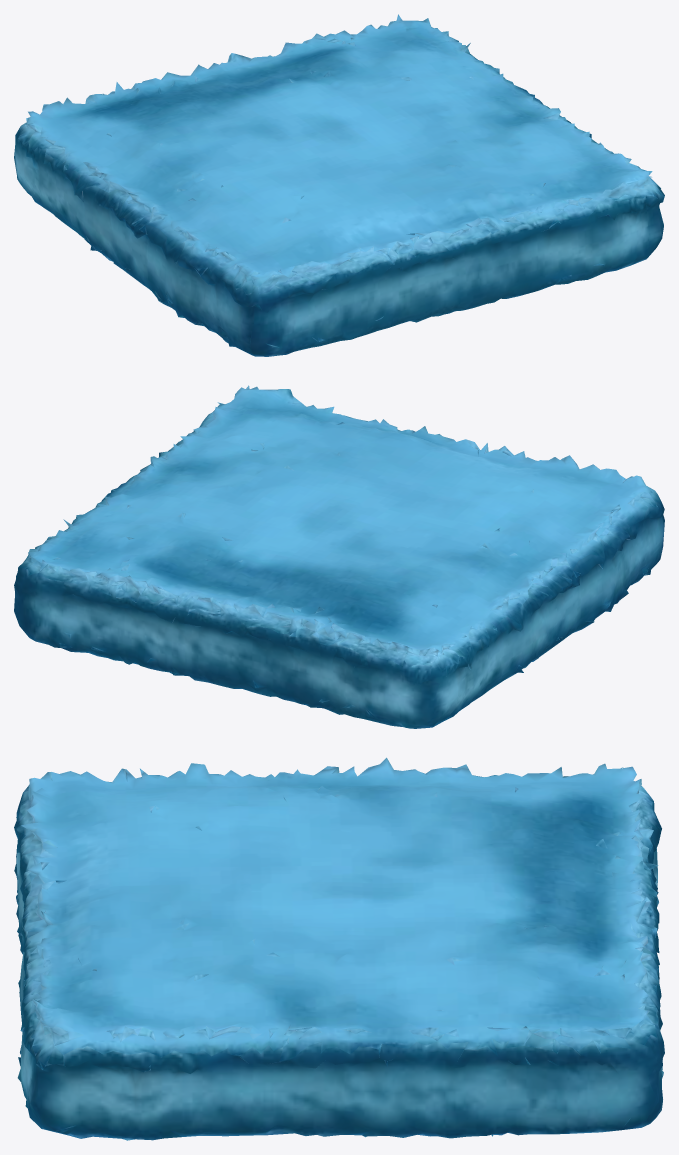
Rendered from Blue_square_rug.glb.
The picture shows the model from 3 angles, top to bottom: view 1: azimuth 30°, elevation 25°; view 2: azimuth 150°, elevation 25°; view 3: azimuth 270°, elevation 25°; orthographic projection. The views are drawn at different scales.
Visible parts, largest first — view 1: Mesh_0; view 2: Mesh_0; view 3: Mesh_0.
Part boxes in pixels (<box>): Mesh_0: <box>14,14,664,356</box>; Mesh_0: <box>14,385,664,728</box>; Mesh_0: <box>14,757,664,1140</box>.
Bounding box in the file's own units: 1.83 × 0.3694 × 1.76.
1 material, 1 textured.
